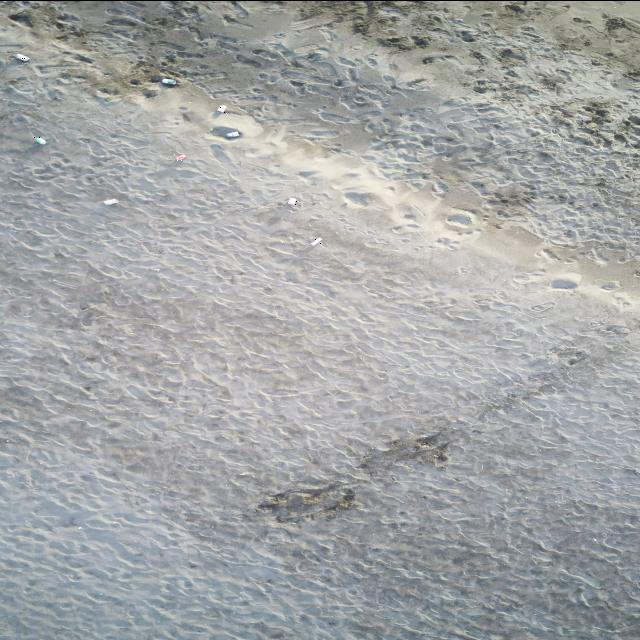Garbage: (212, 125, 240, 138), (13, 52, 28, 62), (224, 129, 240, 136), (160, 77, 176, 84), (311, 236, 322, 246), (103, 198, 118, 204), (144, 88, 155, 96), (33, 136, 45, 143), (176, 152, 186, 160), (216, 104, 226, 111), (287, 196, 296, 203), (150, 75, 160, 80)
